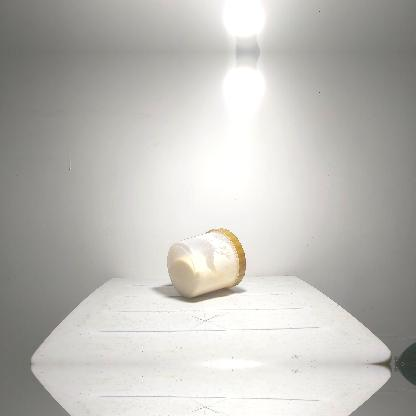Lady-s-Choice: (166, 226, 247, 298)
